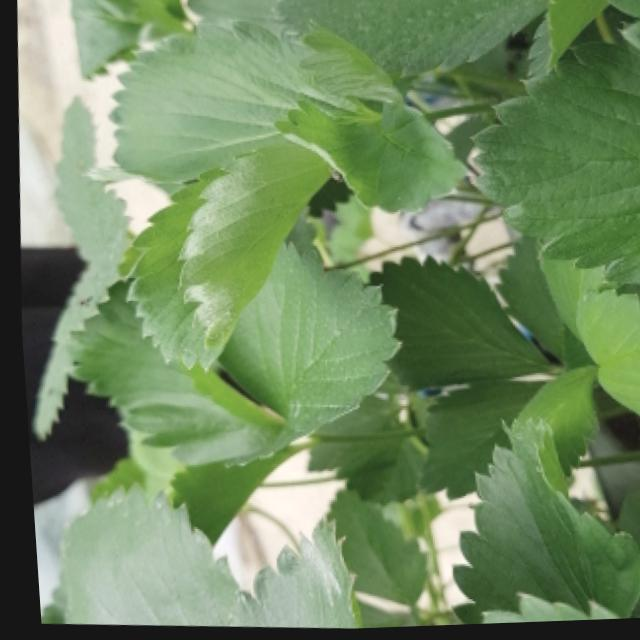Powdery Mildew Leaf: (111, 142, 333, 375)
